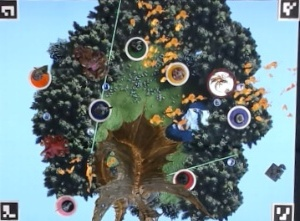blue: (88, 96, 114, 123)
green: (124, 34, 149, 59)
orange: (26, 65, 54, 89)
pink: (52, 192, 77, 216)
red: (173, 168, 197, 192)
violet: (226, 103, 254, 131)
yellow: (165, 58, 192, 86)
